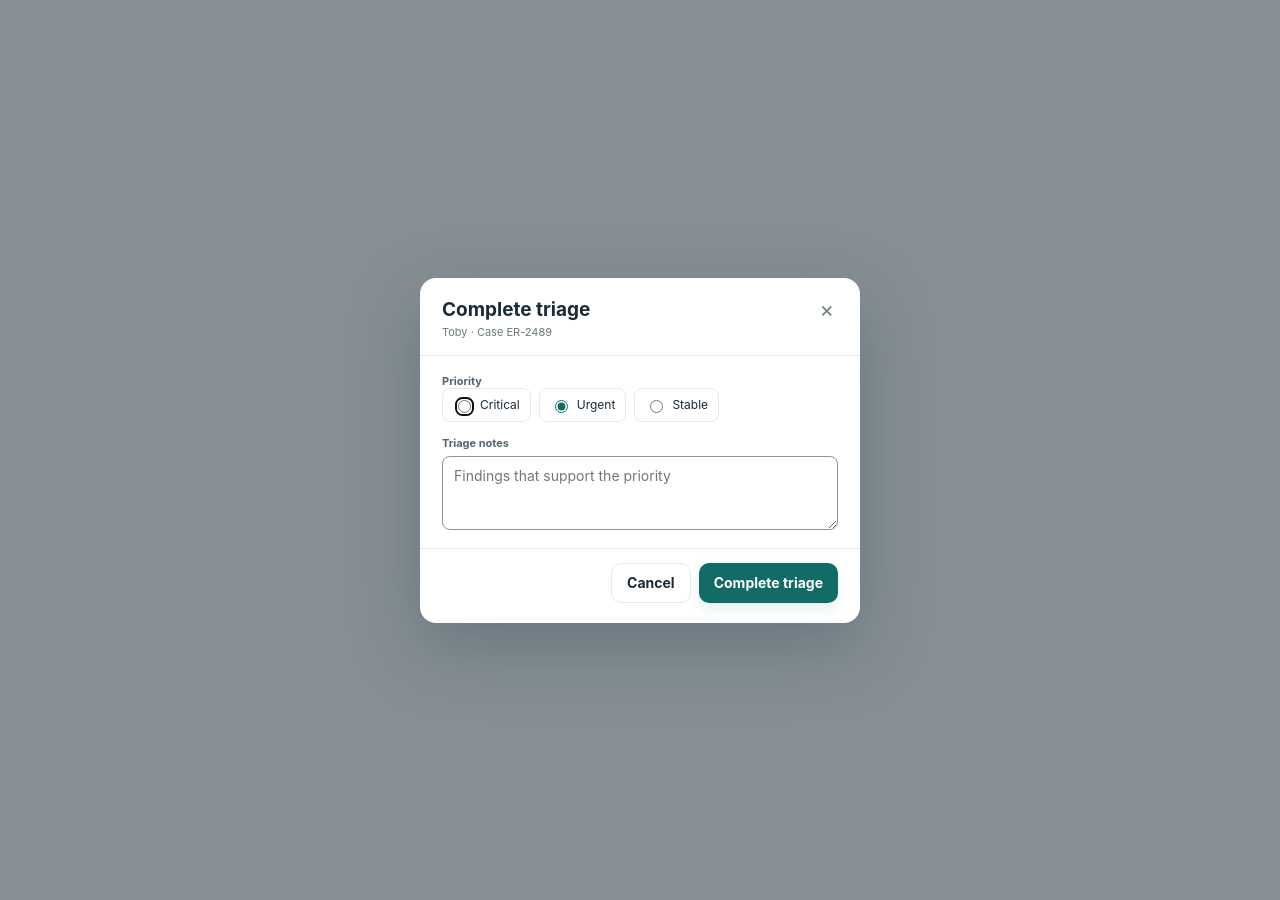
TriageDialog › explains a 404 in the dialog
The width and height of the screenshot is (1280, 900).
Click the button "Complete triage" at coordinates (768, 582), box [699,562,838,602]
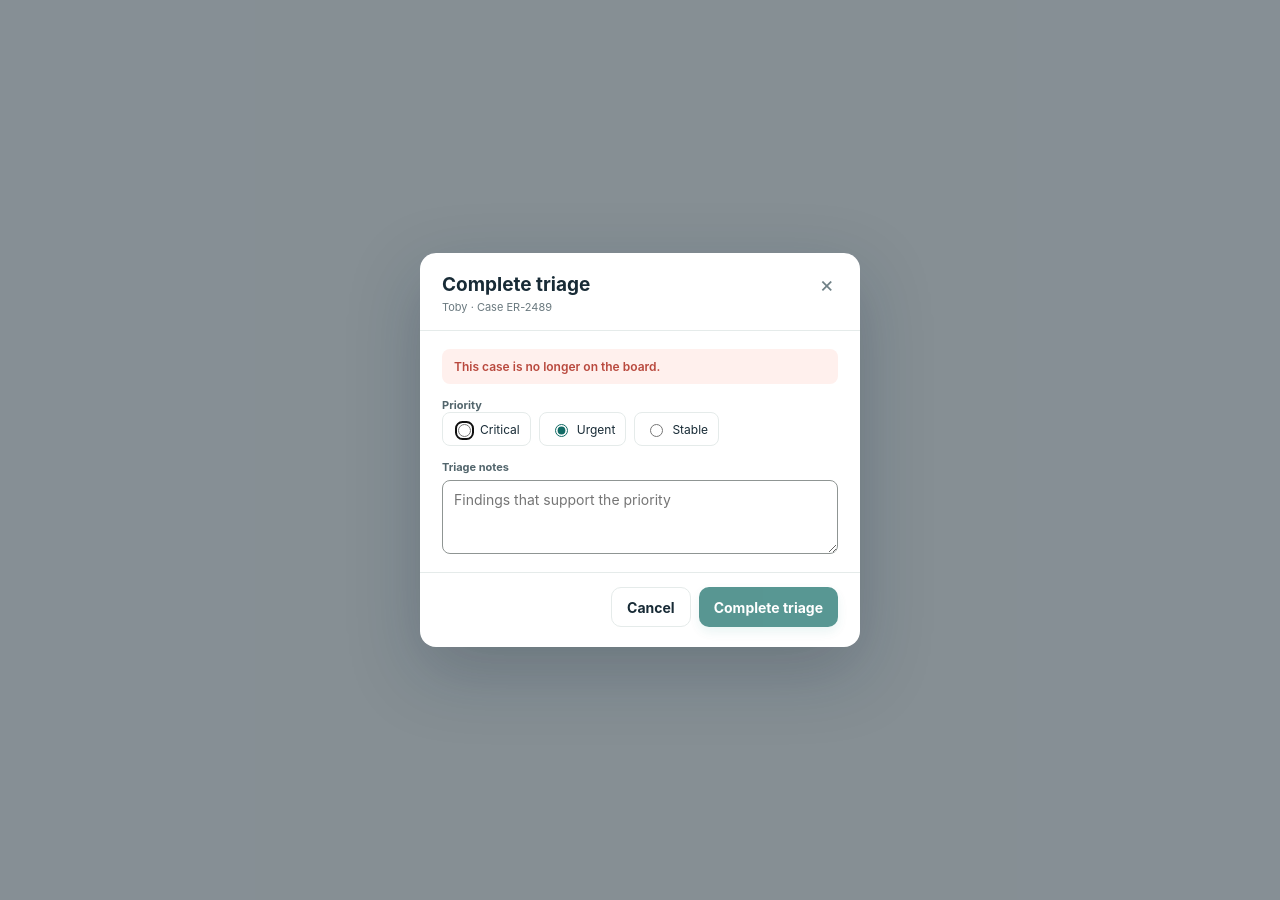
expect the dialog is shown: met, box [420,253,860,647]
expect the message reads "This case is no longer on the board.": met, box [454,359,660,374]
